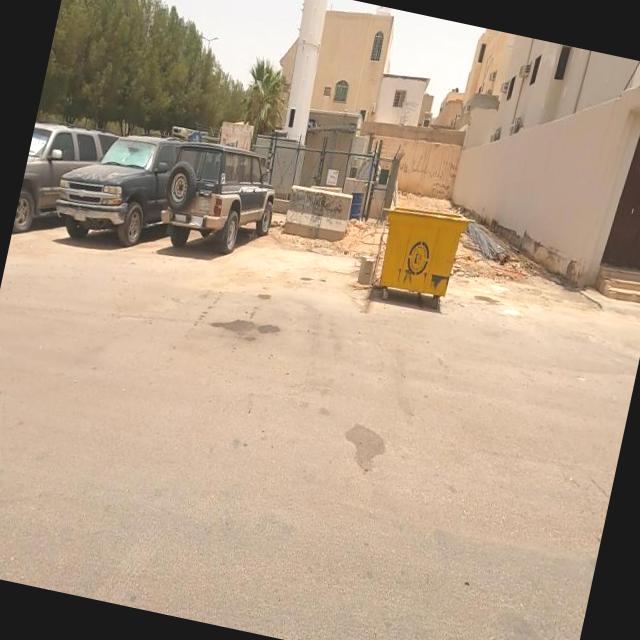debris: (439, 194, 535, 303)
